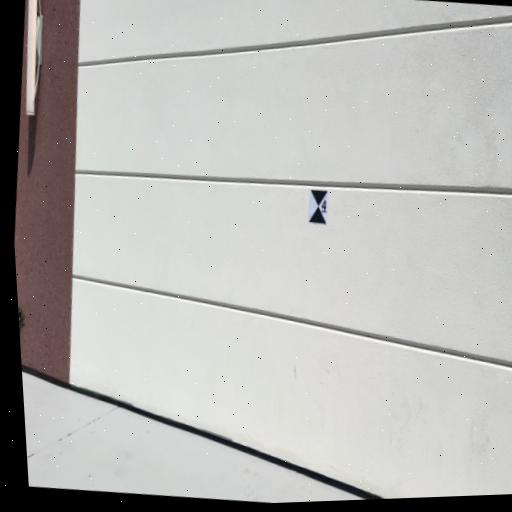target4: (307, 187, 332, 225)
